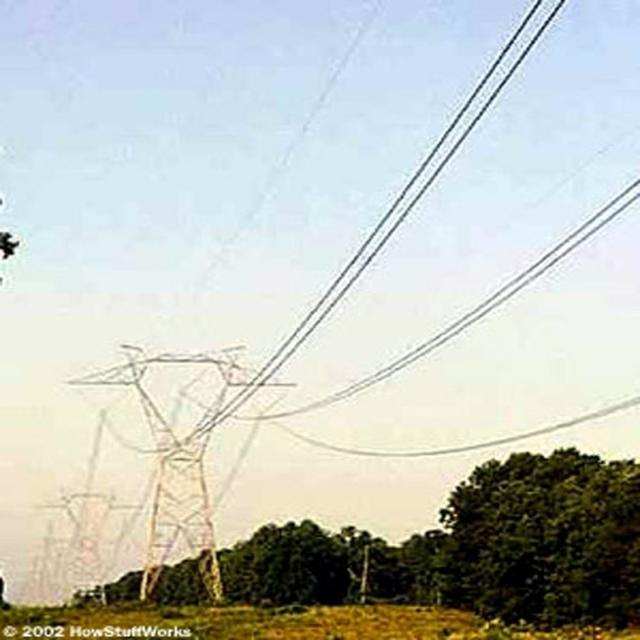non-critical vegetation: (59, 327, 297, 588)
